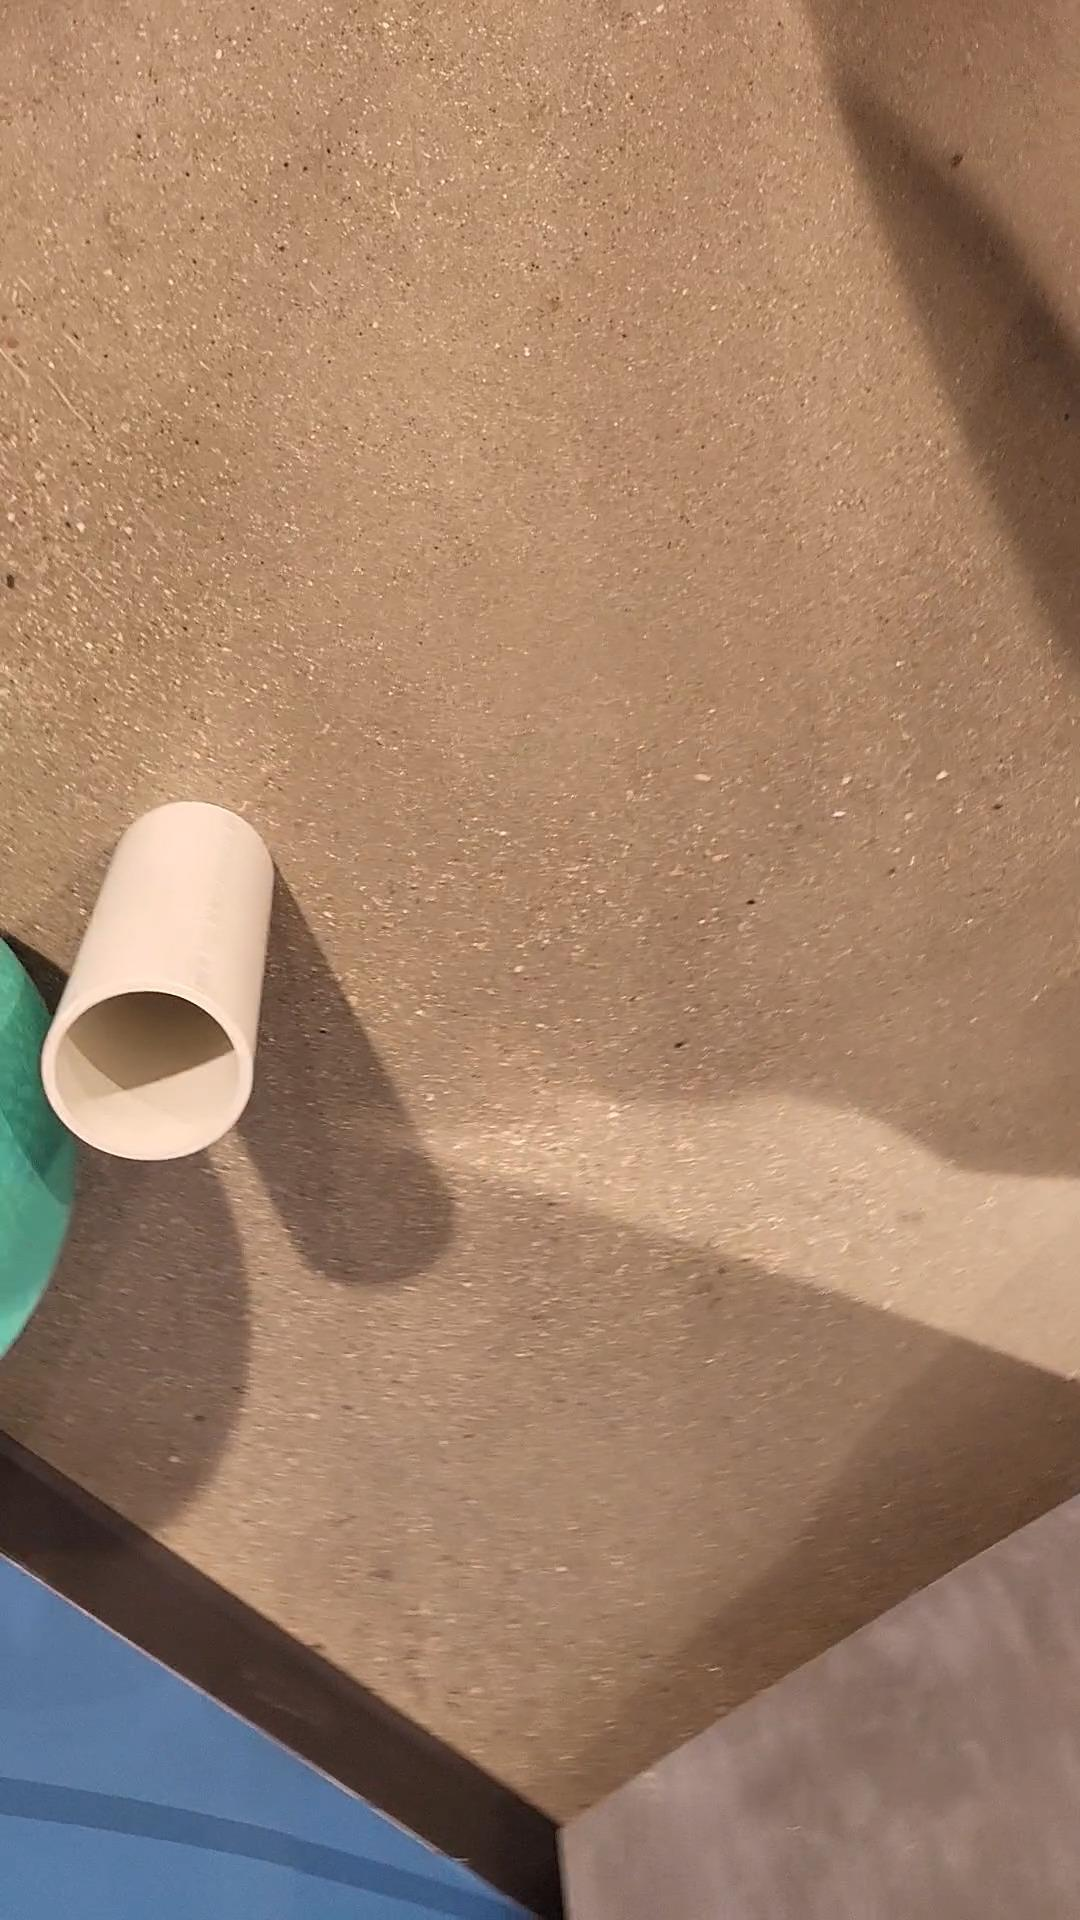algae: (0, 924, 83, 1378)
coral: (40, 795, 273, 1164)
